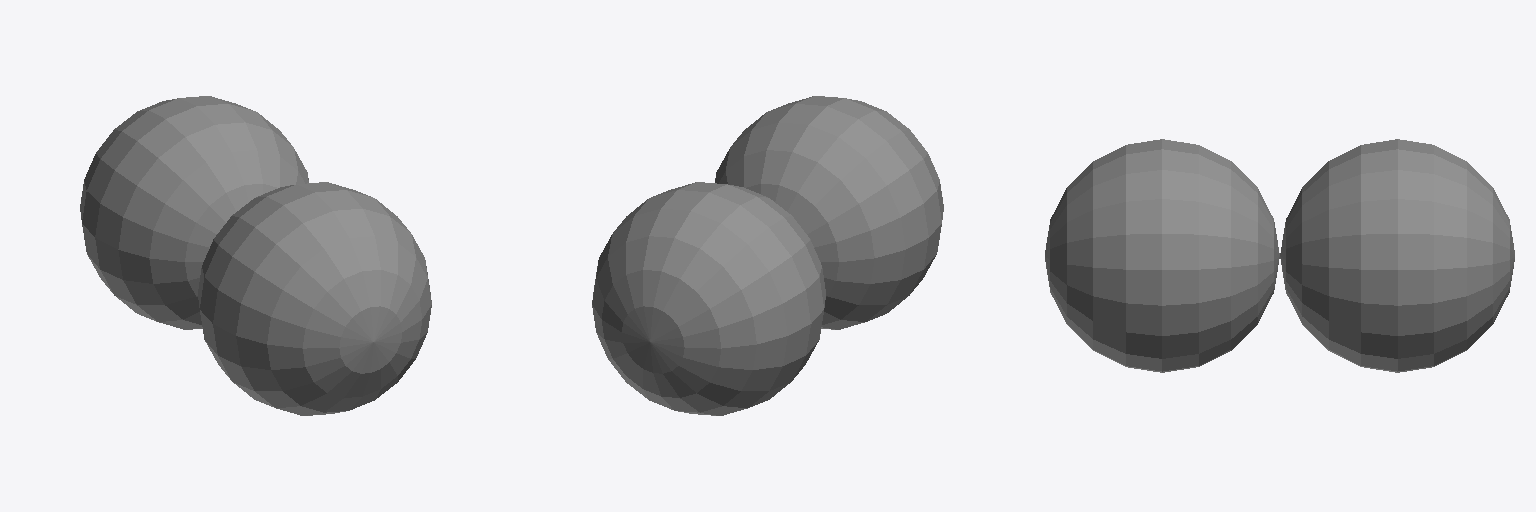
File: cpz_obj_TrapBall_A.obj
The picture shows the model from 3 angles: view 1: azimuth 30°, elevation 25°; view 2: azimuth 150°, elevation 25°; view 3: azimuth 270°, elevation 25°; orthographic projection.
Visible parts, largest first — view 1: cpz_obj_ts1_TrapBall; view 2: cpz_obj_ts1_TrapBall; view 3: cpz_obj_ts1_TrapBall.
Boxes of the visible parts, <box> form: cpz_obj_ts1_TrapBall: <box>80,96,431,415</box>; cpz_obj_ts1_TrapBall: <box>592,96,943,415</box>; cpz_obj_ts1_TrapBall: <box>1045,139,1514,372</box>.
Bounding box in the file's own units: 36 × 36 × 72.